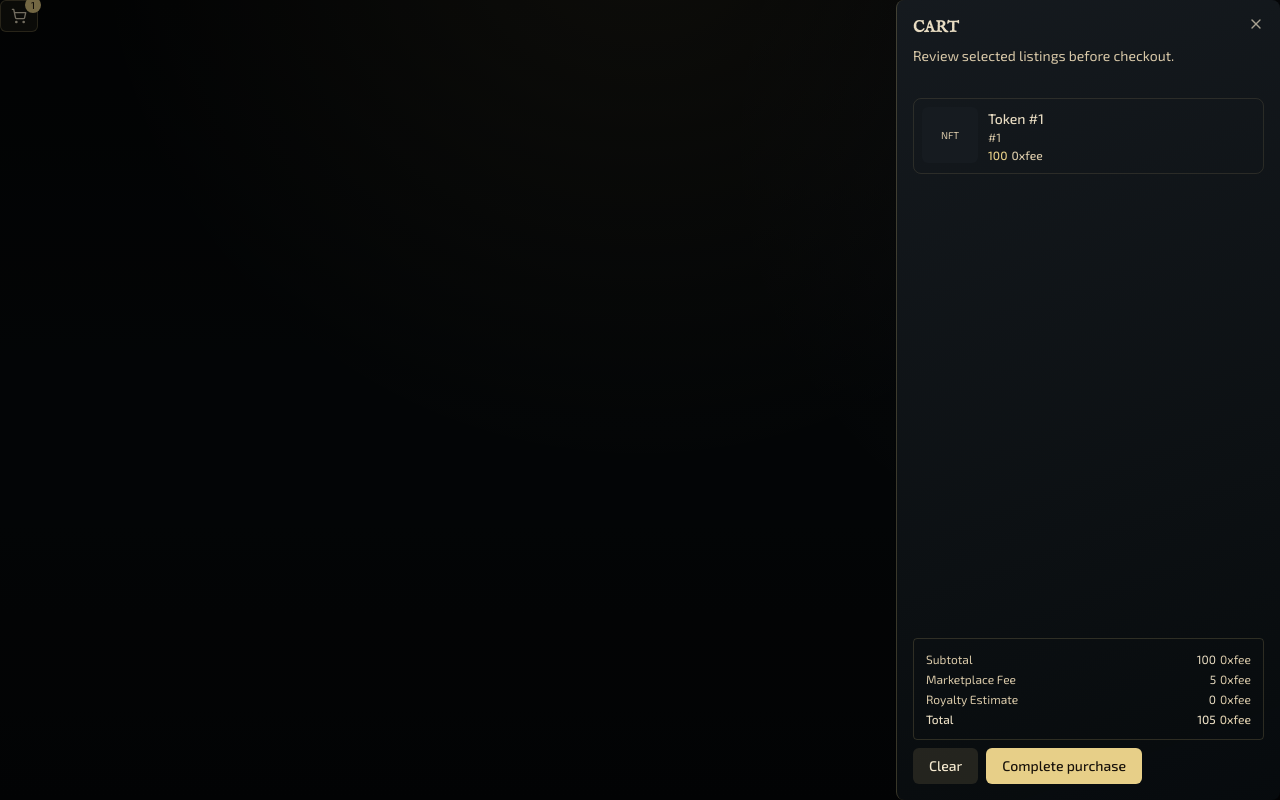
Test: cart sidebar › refresh_listing_clears_inline_error_when_listing_recovers
What coordinates should you click on to do the following:
click the button "Complete purchase"
I would click on:
 (1064, 766)
Its box is [986, 748, 1142, 784].
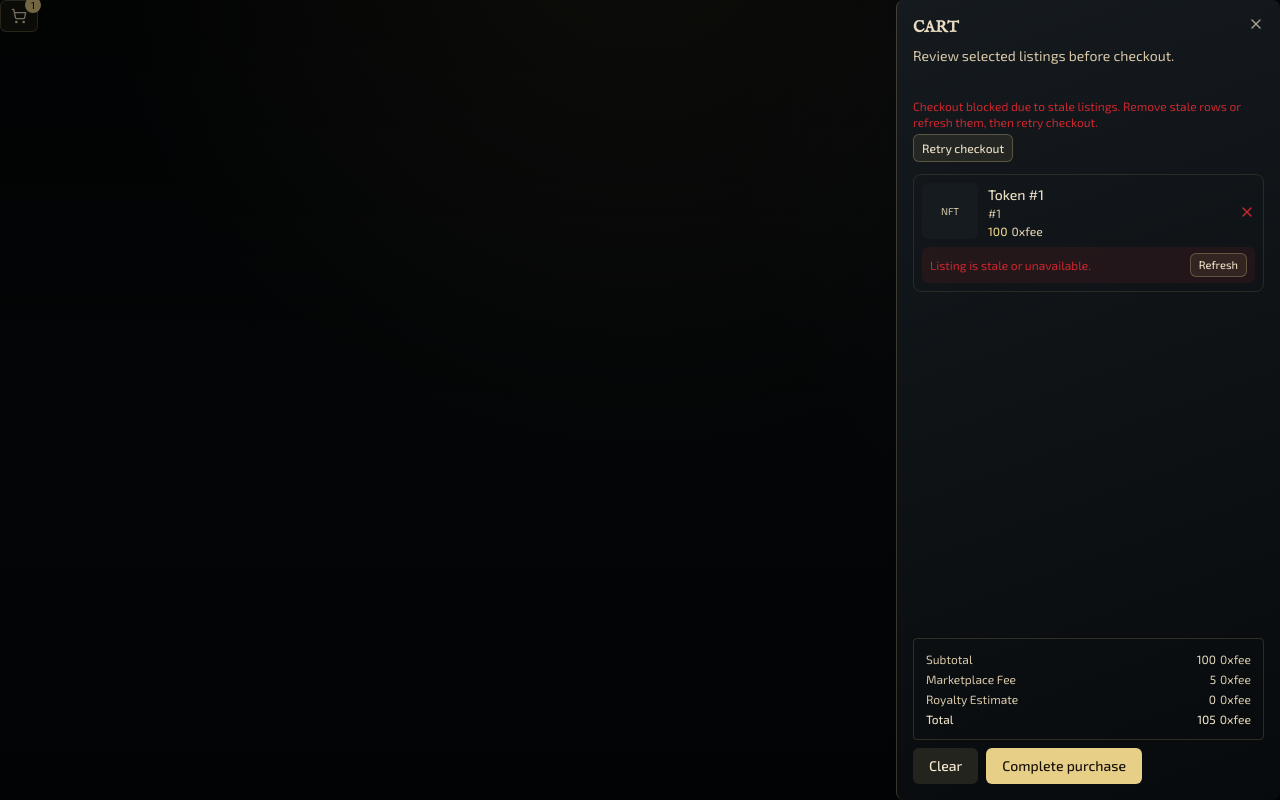
Result: the text "Listing is stale or unavailable." is shown at [930, 258, 1091, 272]
What coordinates should you click on to do the following:
click the button "Refresh"
I would click on:
 (1218, 265)
Its box is [1190, 253, 1247, 277].
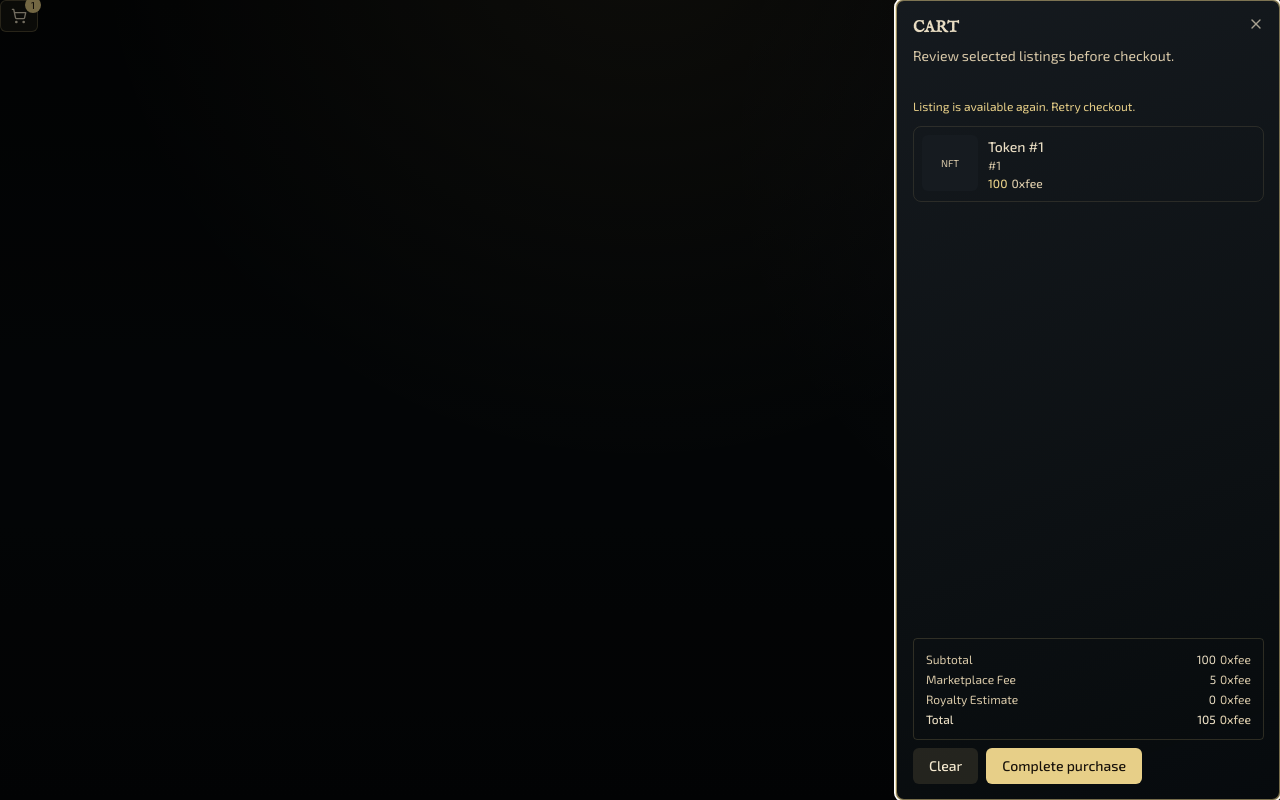
Result: the text "refresh" is gone
